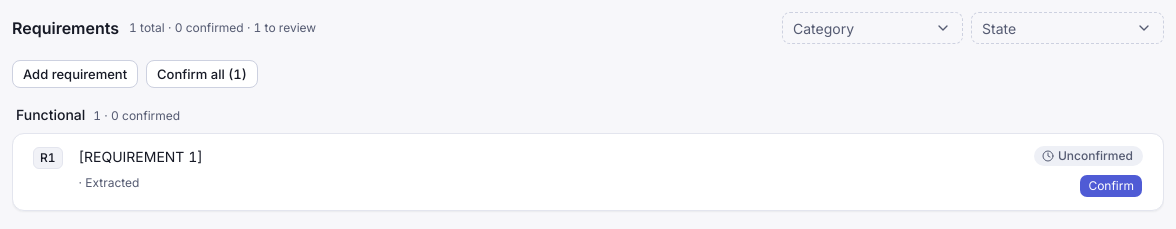
for those who may not edit (sales representatives, readers) › a 403 says who may edit and re-reads the list
This screenshot has width=1176, height=229.
Click the button with aria-label "Confirm: [REQUIREMENT 1]": point(1111, 186) left=1079, top=174, right=1143, bottom=198
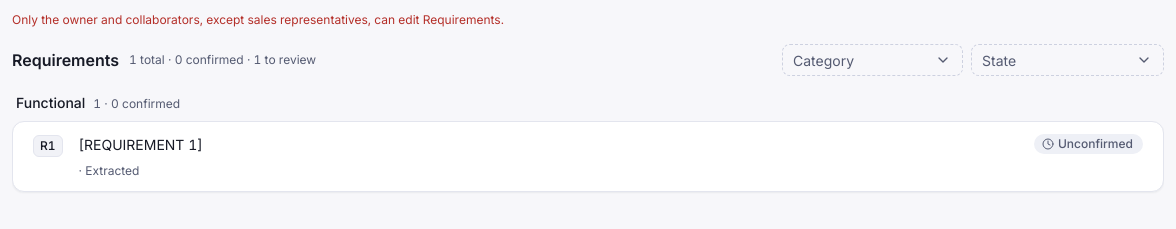
Expected: the text "Only the owner and collaborators, except sales representatives, can edit Requirements." is shown, left=12, top=12, right=504, bottom=27
